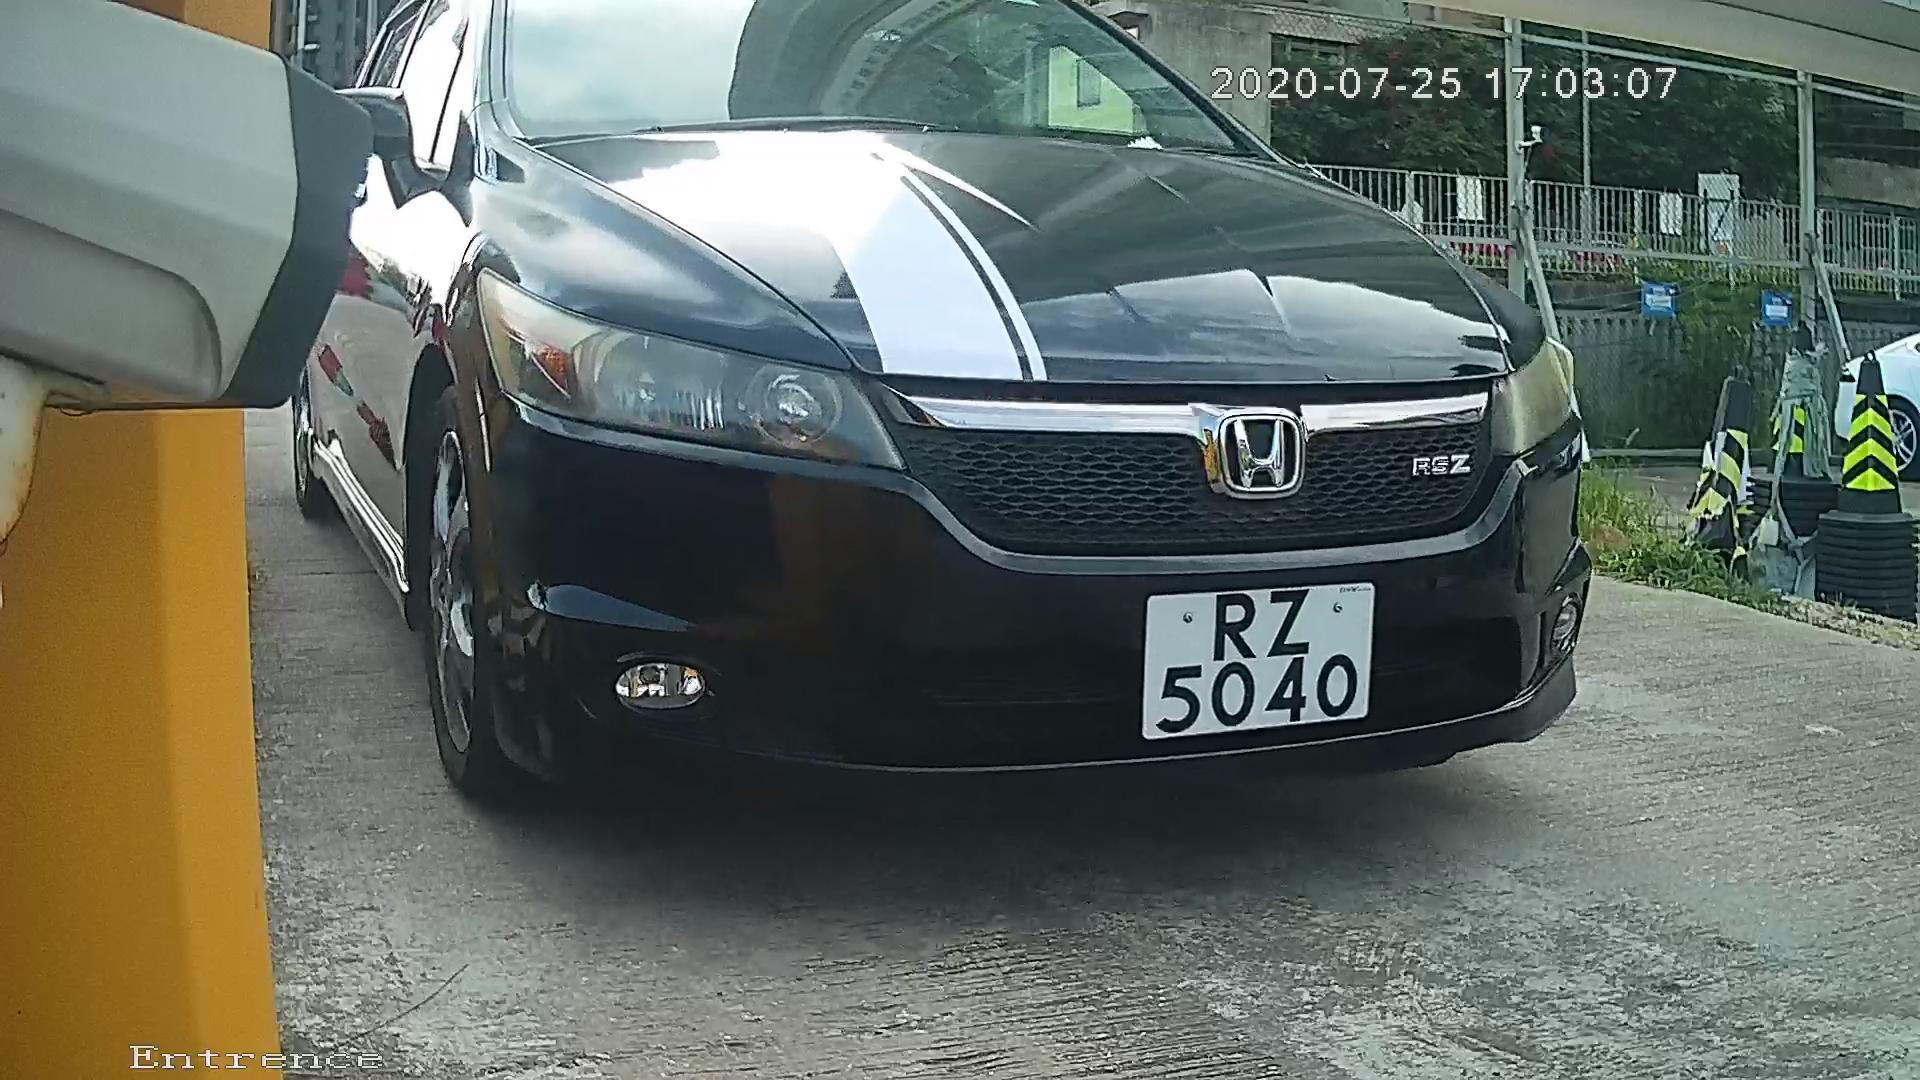privatecar: (215, 11, 1792, 884)
